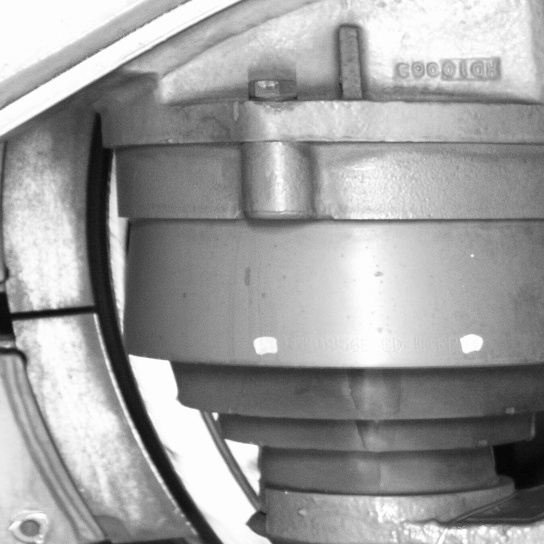KnifeSwitch: (16, 141, 226, 536)
